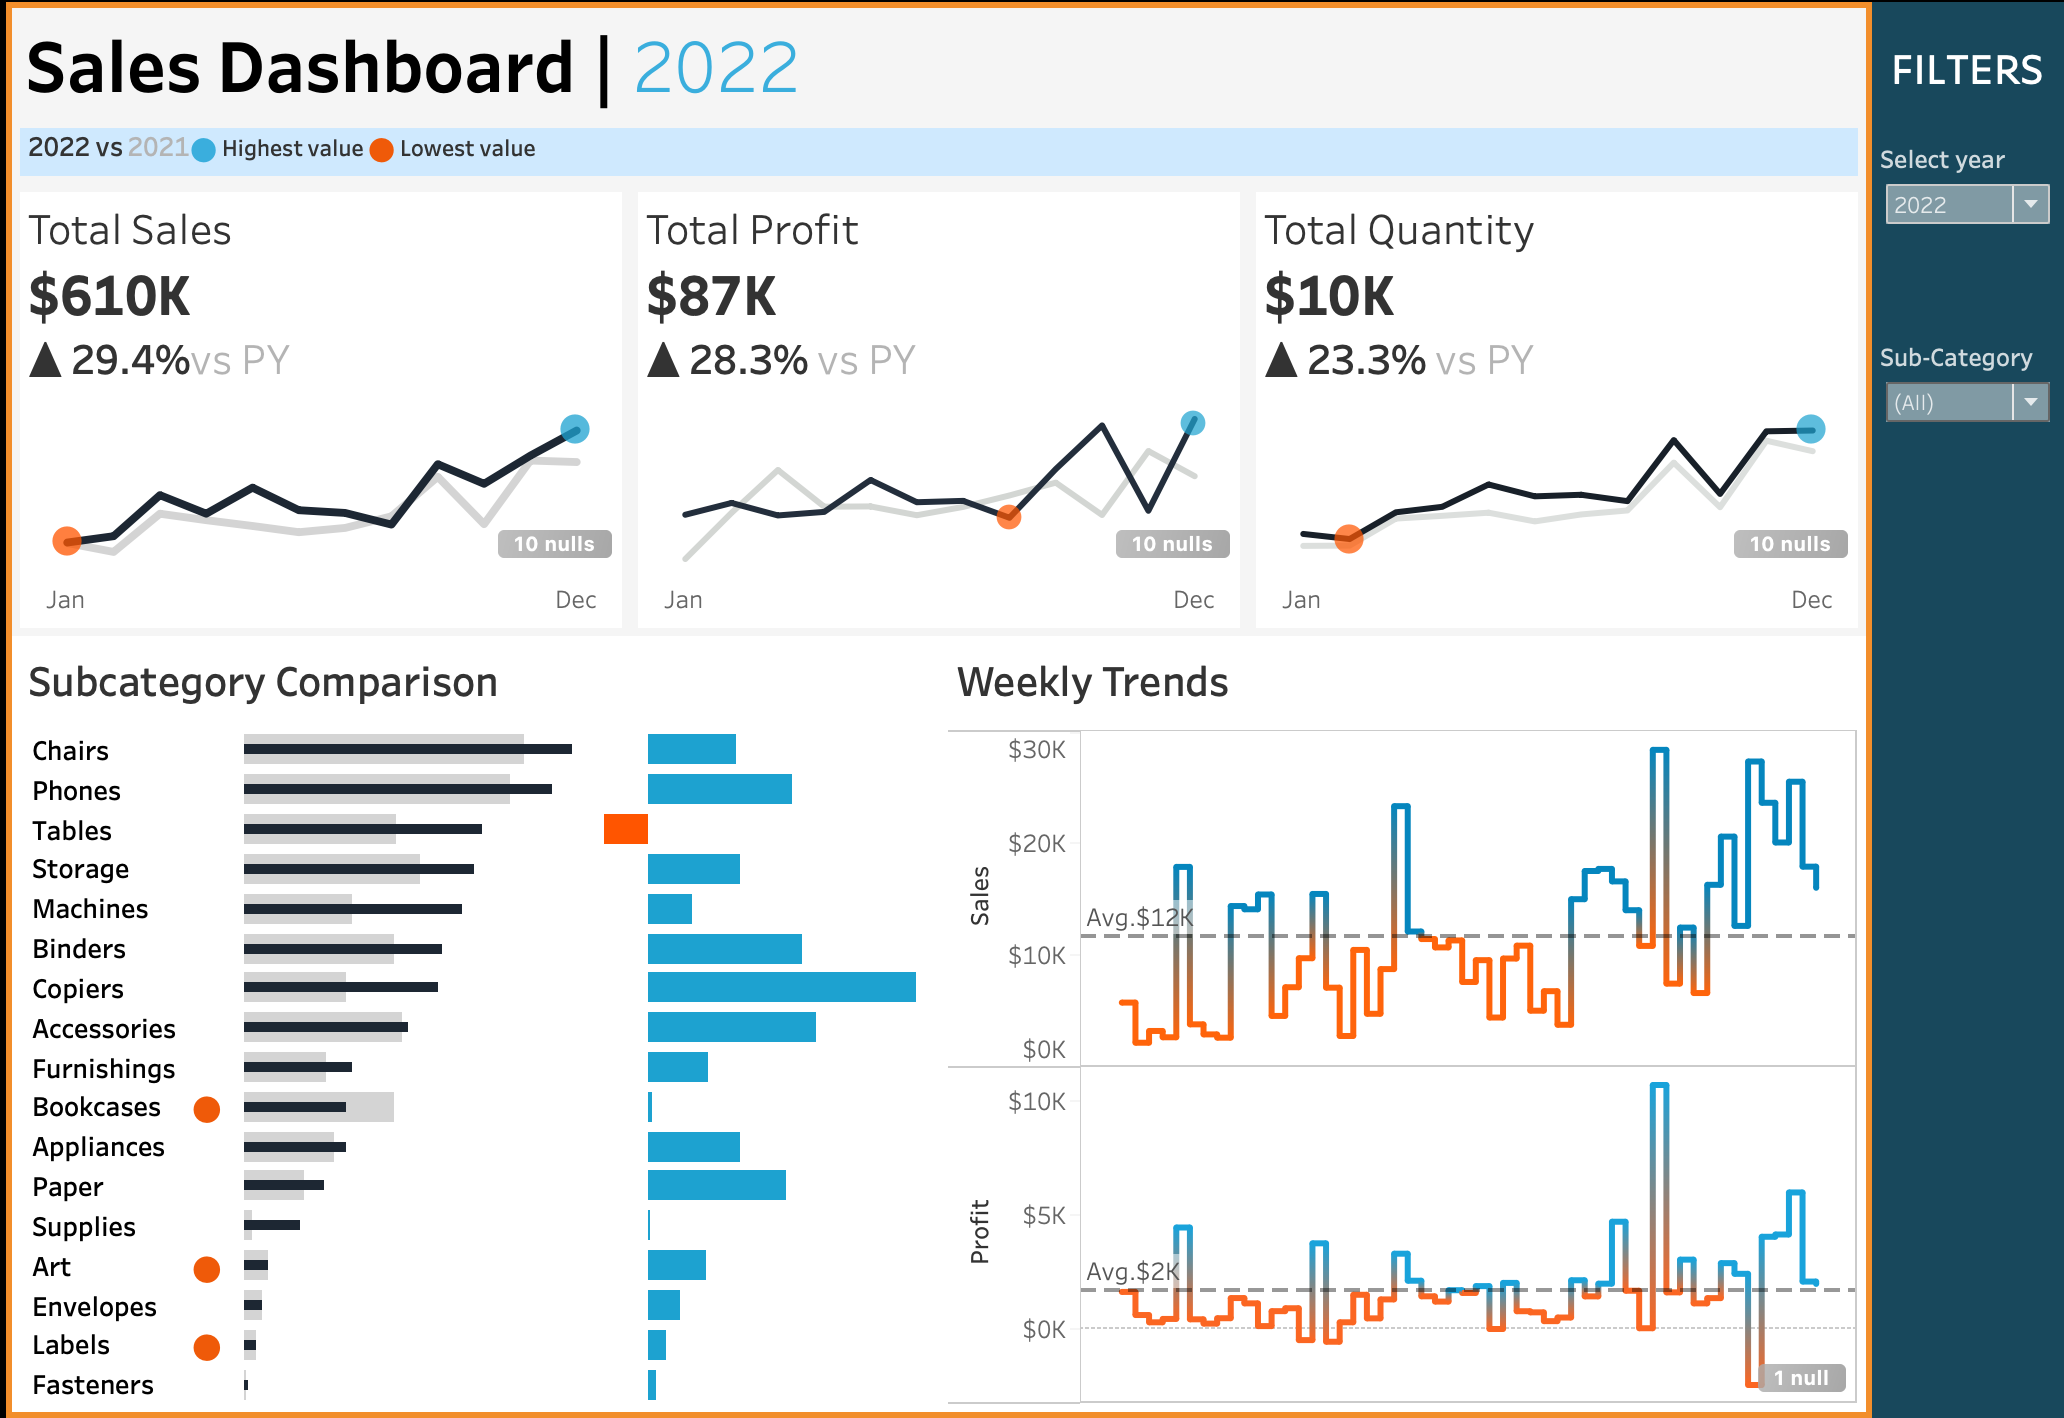

Layout of this report page (visuals, bound fields, positions):
{"tool":"tableau","page":{"name":"Dashboard","canvas":[1029,708],"ordinal":0},"visuals":[{"type":"text","box":[933,0,96,66]},{"type":"text","box":[3,3,927,56]},{"type":"worksheet","title":"Legend kpi","mark":"Text","box":[3,59,927,32]},{"type":"parameter","param":"[Parameters].[Parameter 1]","box":[933,66,96,99]},{"type":"worksheet","title":"KPI Sales","mark":"Line","rows":["Calculation_3311671250604039"],"cols":["Order Date"],"box":[3,91,309,226]},{"type":"worksheet","title":"KPI Profit","mark":"Automatic","cols":["Order Date"],"box":[312,91,309,226]},{"type":"worksheet","title":"KPI Quantity","mark":"Automatic","rows":["Calculation_3311673041756184"],"cols":["Order Date"],"box":[621,91,309,226]},{"type":"filter","title":"Subcategory Comparison","param":"[federated.1ykuzk10wl0t6h0zy4xii1x8oxy0].[none:Sub-Category:nk]","box":[933,165,96,52]},{"type":"worksheet","title":"Subcategory Comparison","mark":"Bar","rows":["Sub-Category","Calculation_3311673367146523"],"cols":["Calculation_3311669484097540","Calculation_3311669483417603","Calculation_3311672864382988"],"box":[3,317,464,388]},{"type":"worksheet","title":"Weekly Trends","mark":"Automatic","rows":["Calculation_3311669483417603","Calculation_3311672864382988"],"cols":["Order Date"],"box":[467,317,463,388]}]}

Visuals, with their boxes in screenshot pixels (x1, y1, x2, y2), scaled from the page's 1029x708 canvas onto the 2064x1418 screenshot:
text: box(1871, 0, 2063, 132)
text: box(6, 6, 1865, 118)
"Legend kpi" worksheet (Text marks): box(6, 118, 1865, 182)
parameter: box(1871, 132, 2063, 330)
"KPI Sales" worksheet (Line marks): box(6, 182, 626, 635)
"KPI Profit" worksheet: box(626, 182, 1246, 635)
"KPI Quantity" worksheet: box(1246, 182, 1865, 635)
"Subcategory Comparison" filter: box(1871, 330, 2063, 435)
"Subcategory Comparison" worksheet (Bar marks): box(6, 635, 937, 1412)
"Weekly Trends" worksheet: box(937, 635, 1865, 1412)
